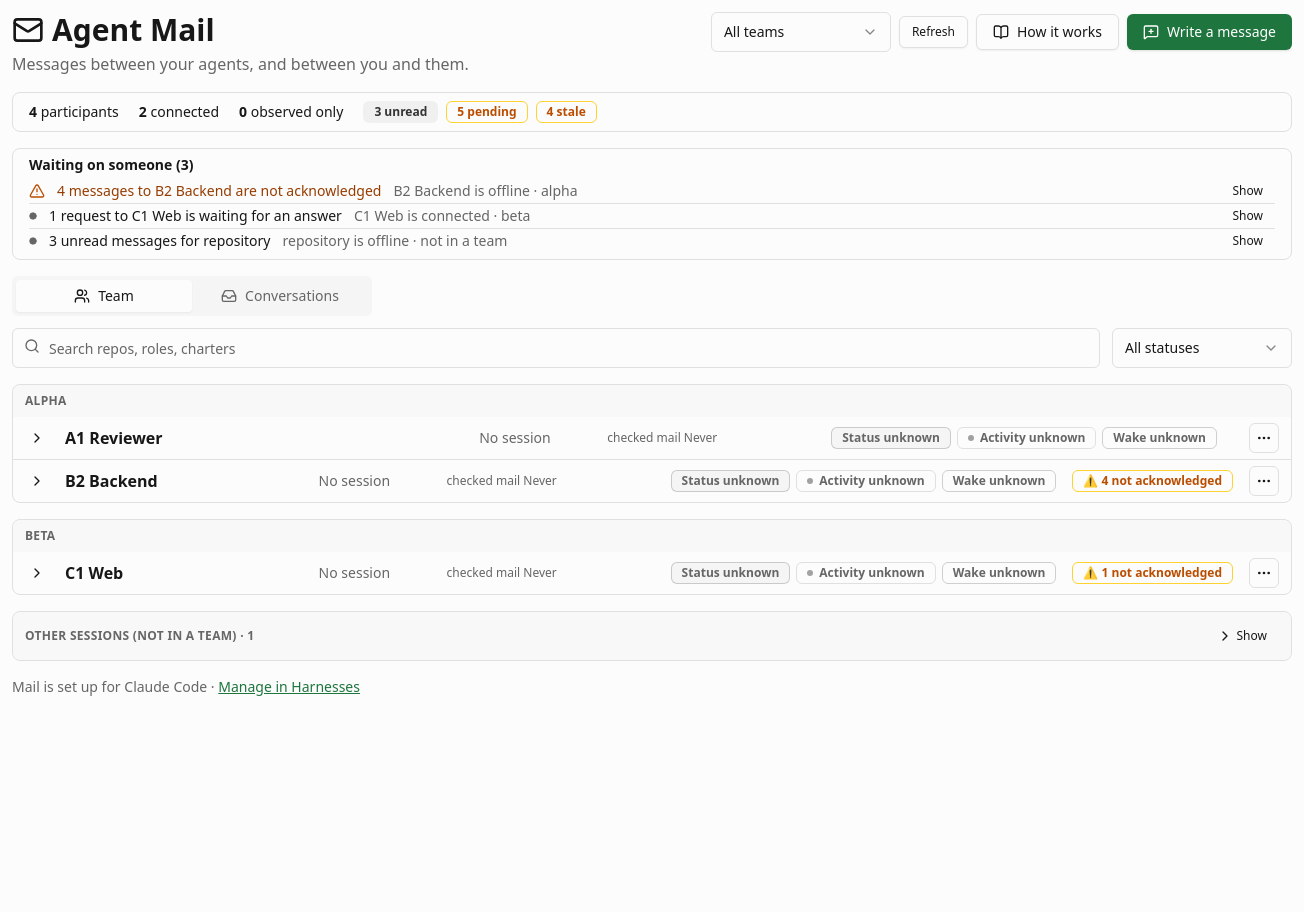
Scenario: Agent Mail page › shows the conversations of a recipient when the panel button is used
This screenshot has width=1304, height=912.
Click the button with aria-label "Show conversations for C1 Web".
click(1248, 216)  # box [1220,204,1275,228]
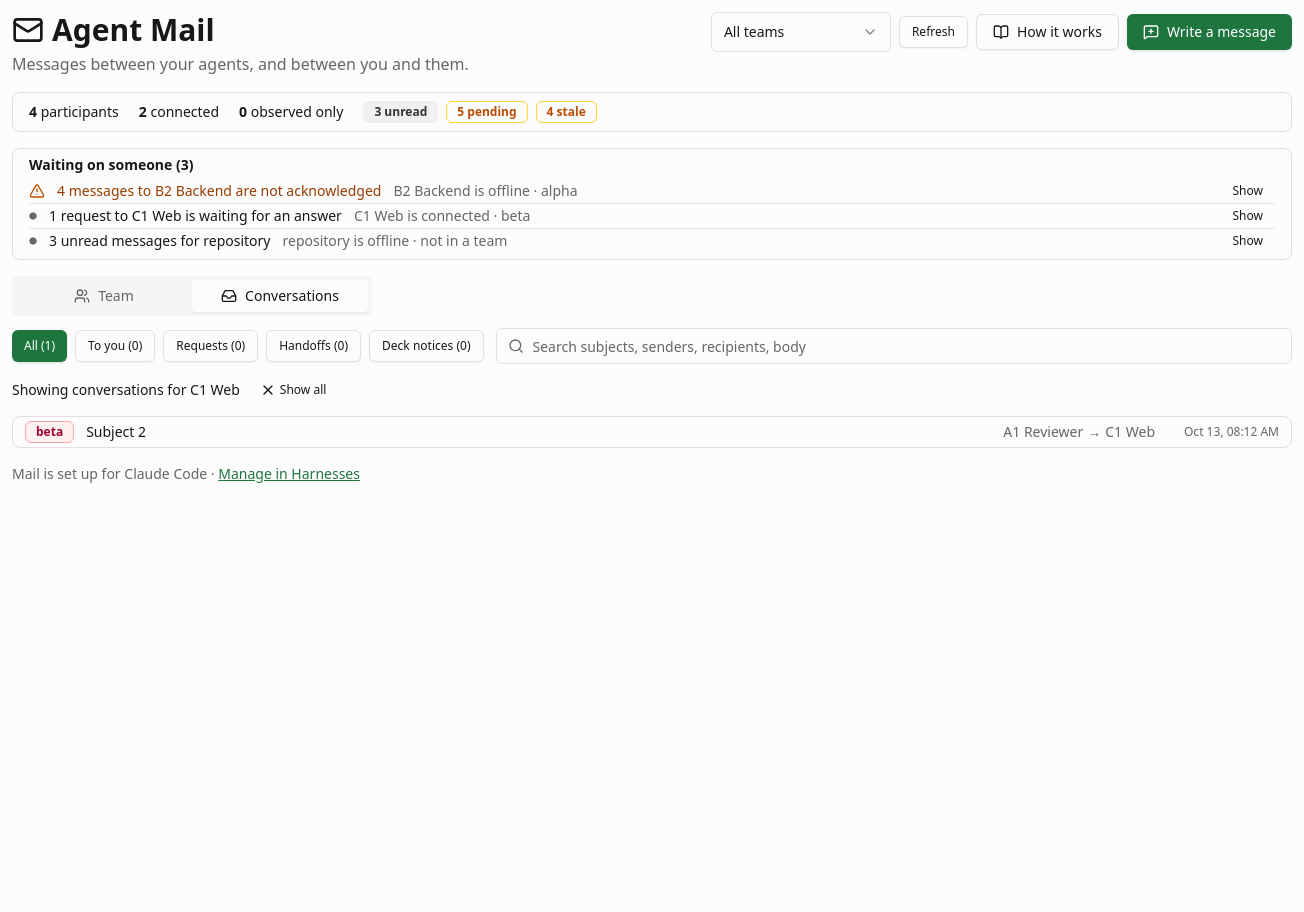
Expected: the number of list items with test id "conversation-row" is 1, [12,416,1292,448]
Expected: the list item with test id "conversation-row" shows "Subject 2", [86,422,991,442]
Expected: the text "Showing conversations for C1 Web" is shown, [12,380,240,400]
